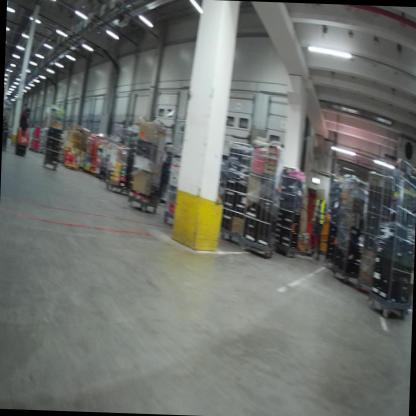pallet_truck: (13, 103, 36, 156)
